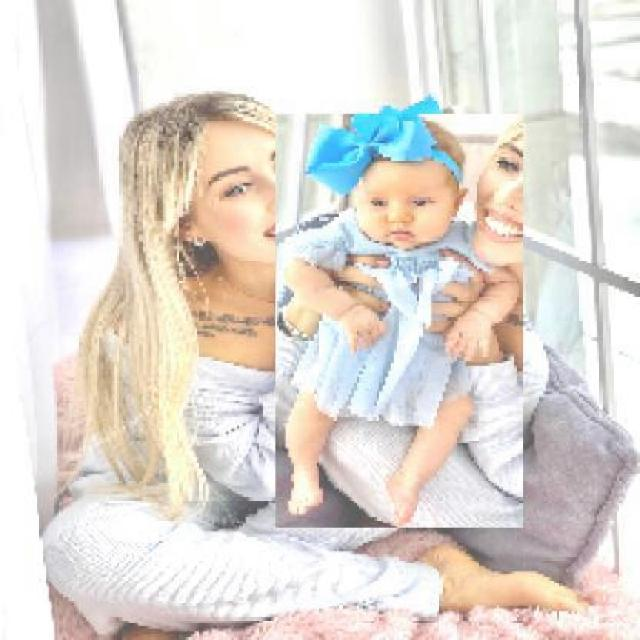child: (274, 114, 523, 529)
